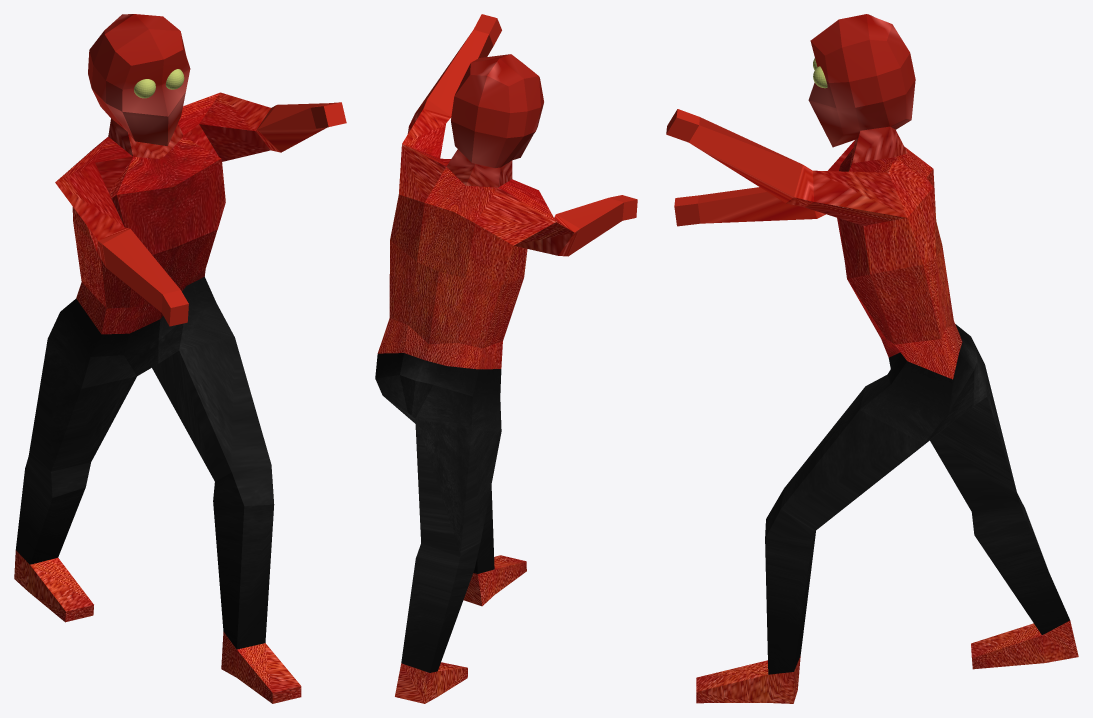
The model's file is laySheary_000019.obj.
The picture shows the model from 3 angles, left to right: view 1: azimuth 30°, elevation 25°; view 2: azimuth 150°, elevation 25°; view 3: azimuth 270°, elevation 25°; orthographic projection. The views are drawn at different scales.
Parts seen in each view (by area): view 1: Cube; view 2: Cube; view 3: Cube.
Boxes of the visible parts, left/top/right/bottom form: Cube: left=14, top=14, right=346, bottom=703; Cube: left=375, top=14, right=637, bottom=703; Cube: left=666, top=14, right=1078, bottom=703.
Bounding box in the file's own units: 5.15 × 15.8 × 9.09.
Materials: 3 (2 with a texture image).
